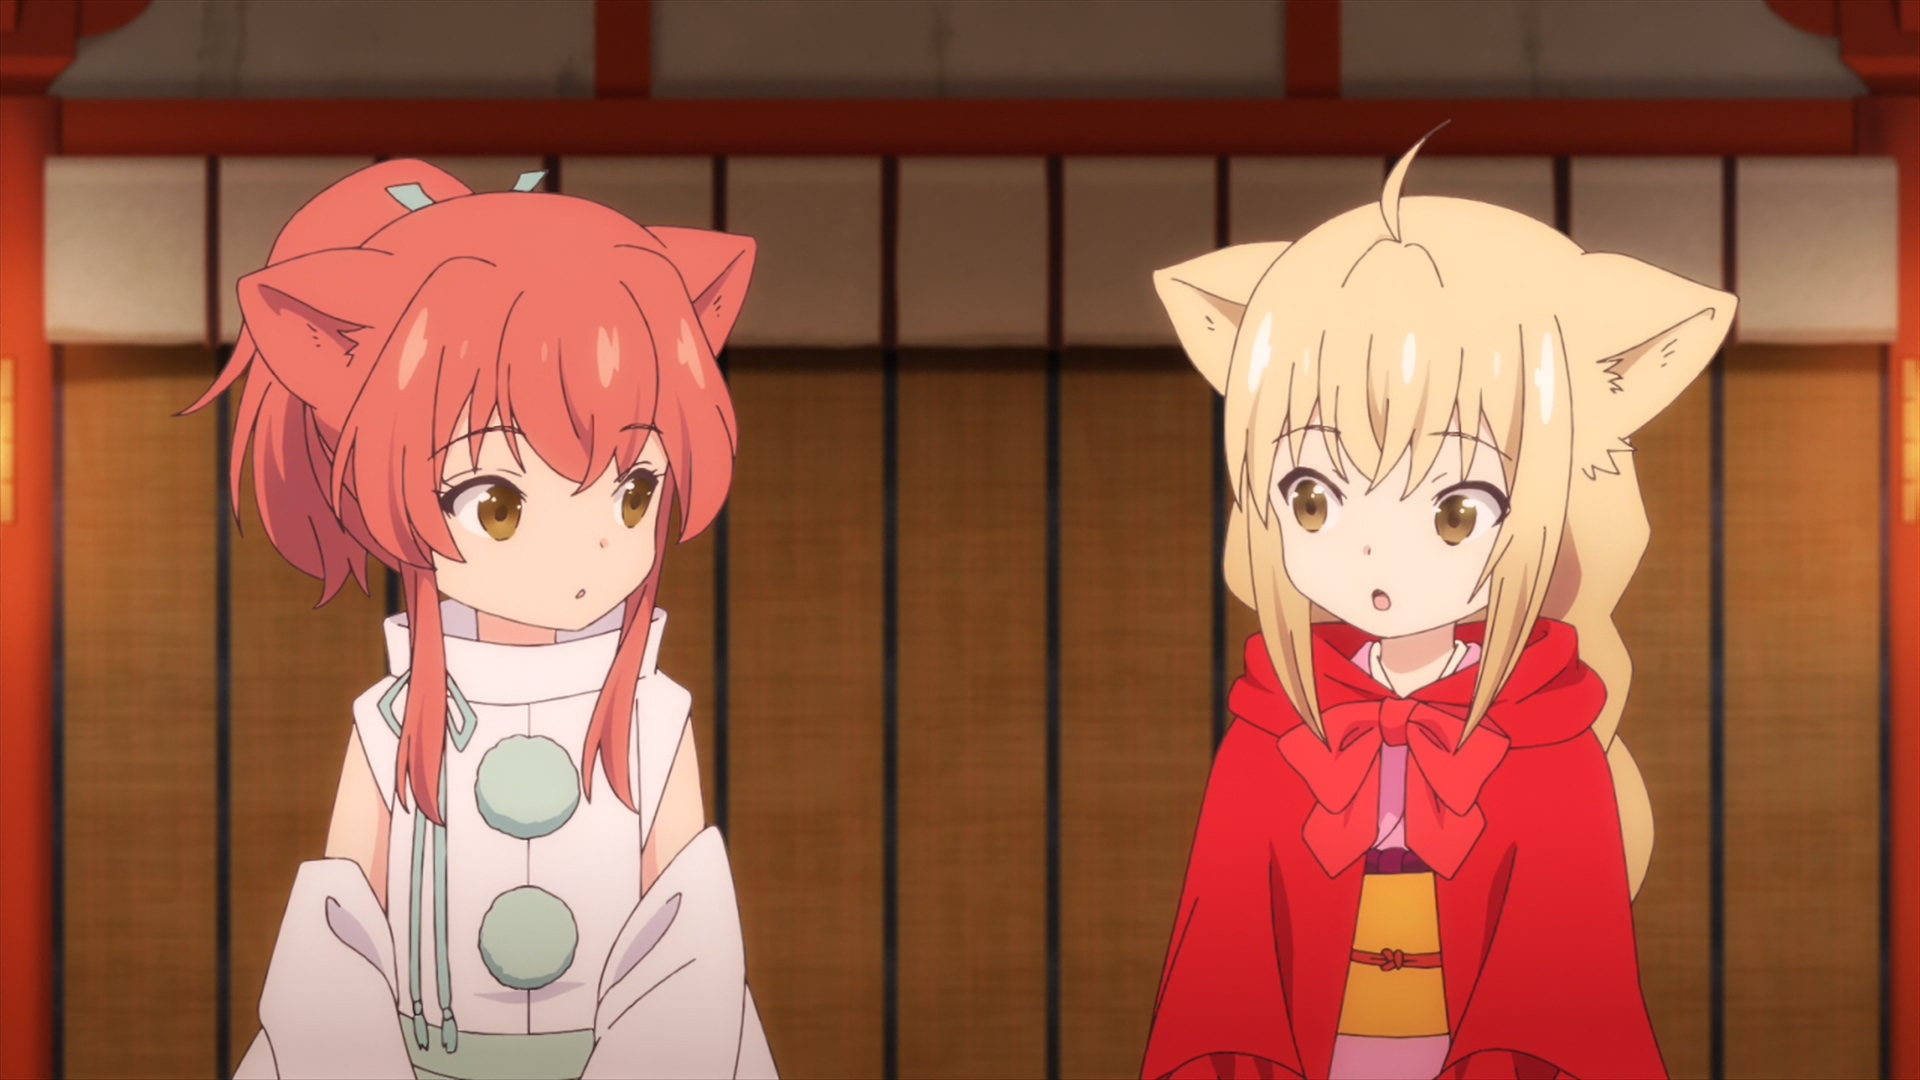柚: (1138, 120, 1741, 1080)
椿: (175, 156, 781, 1080)
